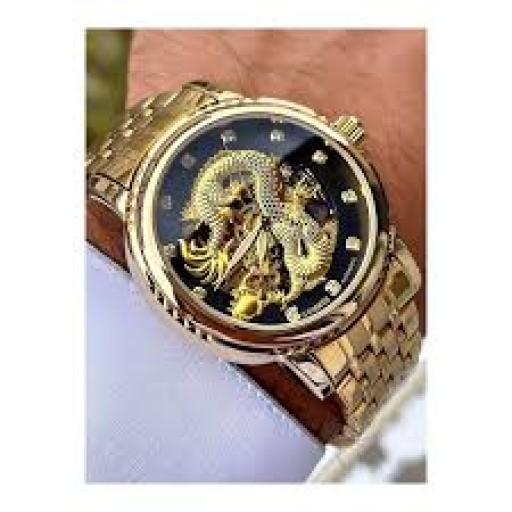KolSaati: (88, 62, 422, 465)
